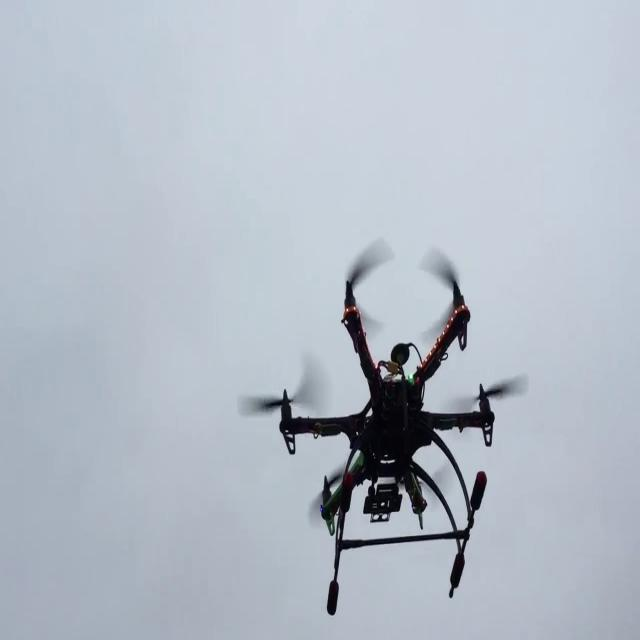drone: (230, 266, 532, 637)
